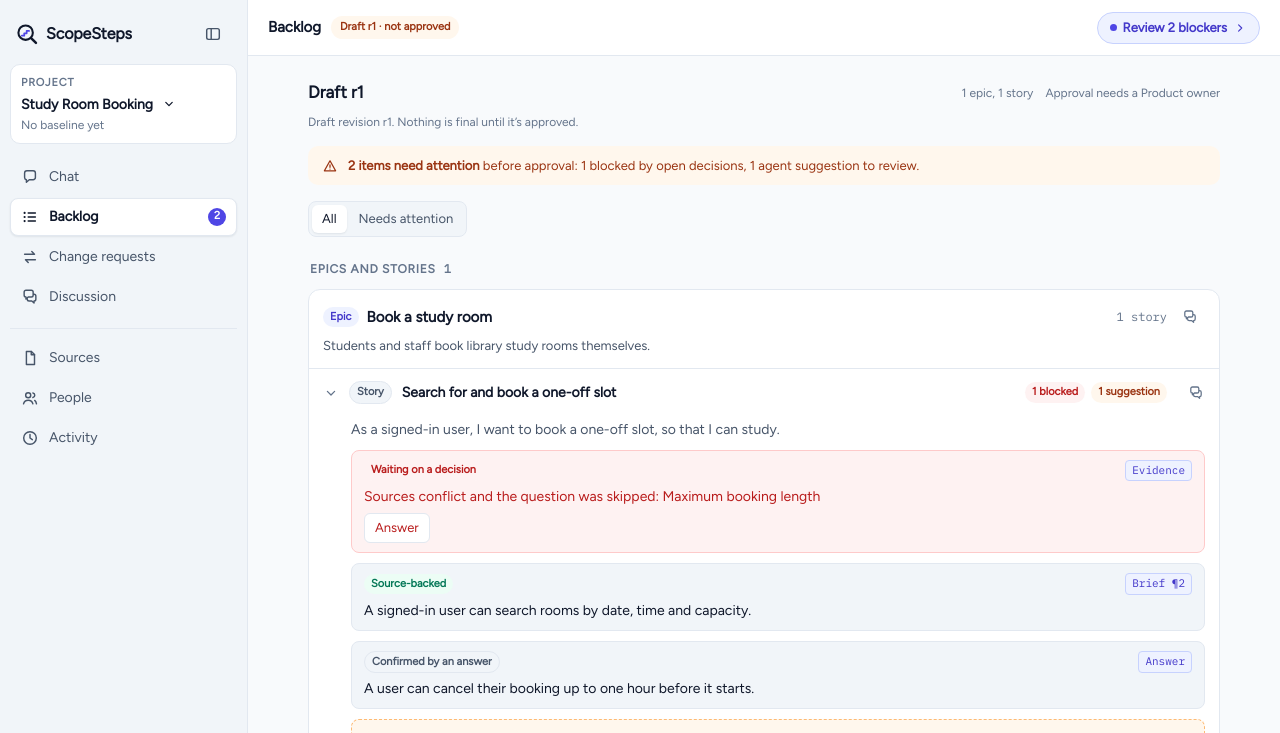
Test: BacklogView › shows who confirmed a criterion and what they answered
Click the button "Answer" in the row of "Confirmed by an answer" at (1165, 662), box [1138,651,1192,673]
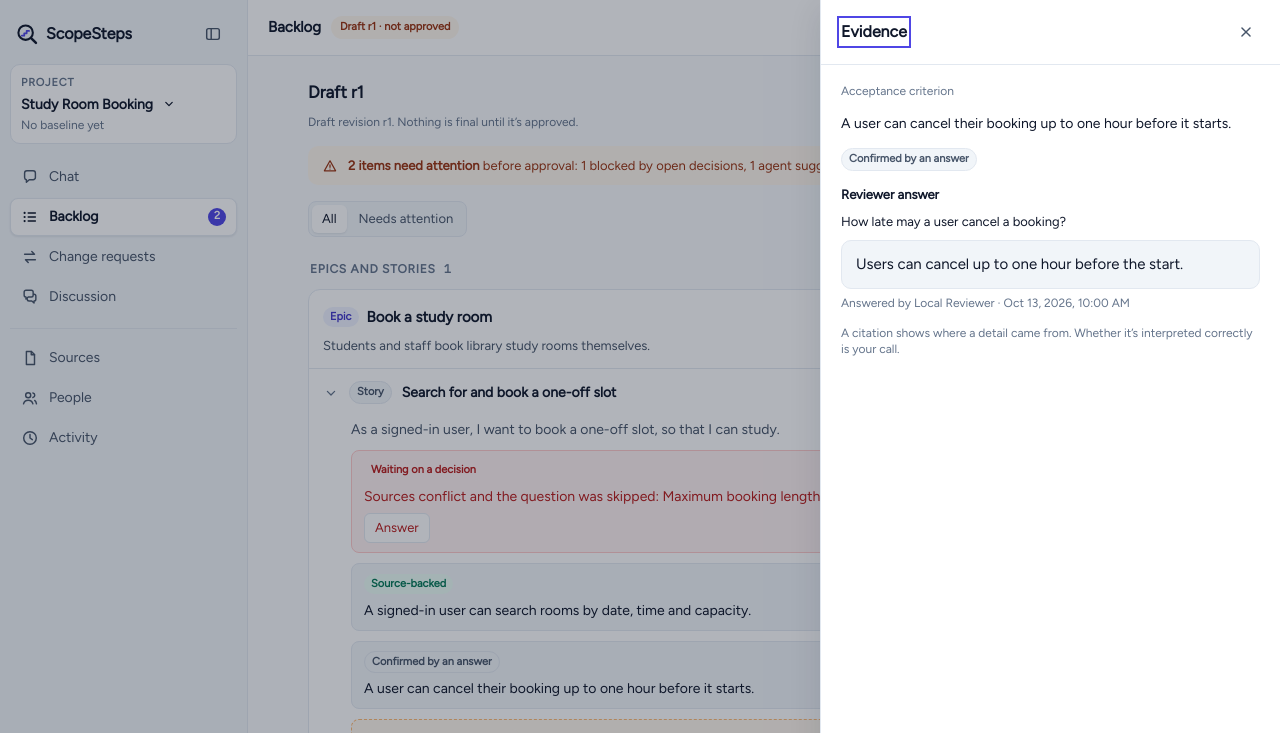
Expected: the text "Confirmed by an answer" is shown, [841,148,977,170]
Expected: the text "How late may a user cancel a booking?" is shown, [841,214,1066,229]
Expected: the text "Users can cancel up to one hour before the start." is shown, [841,240,1260,289]
